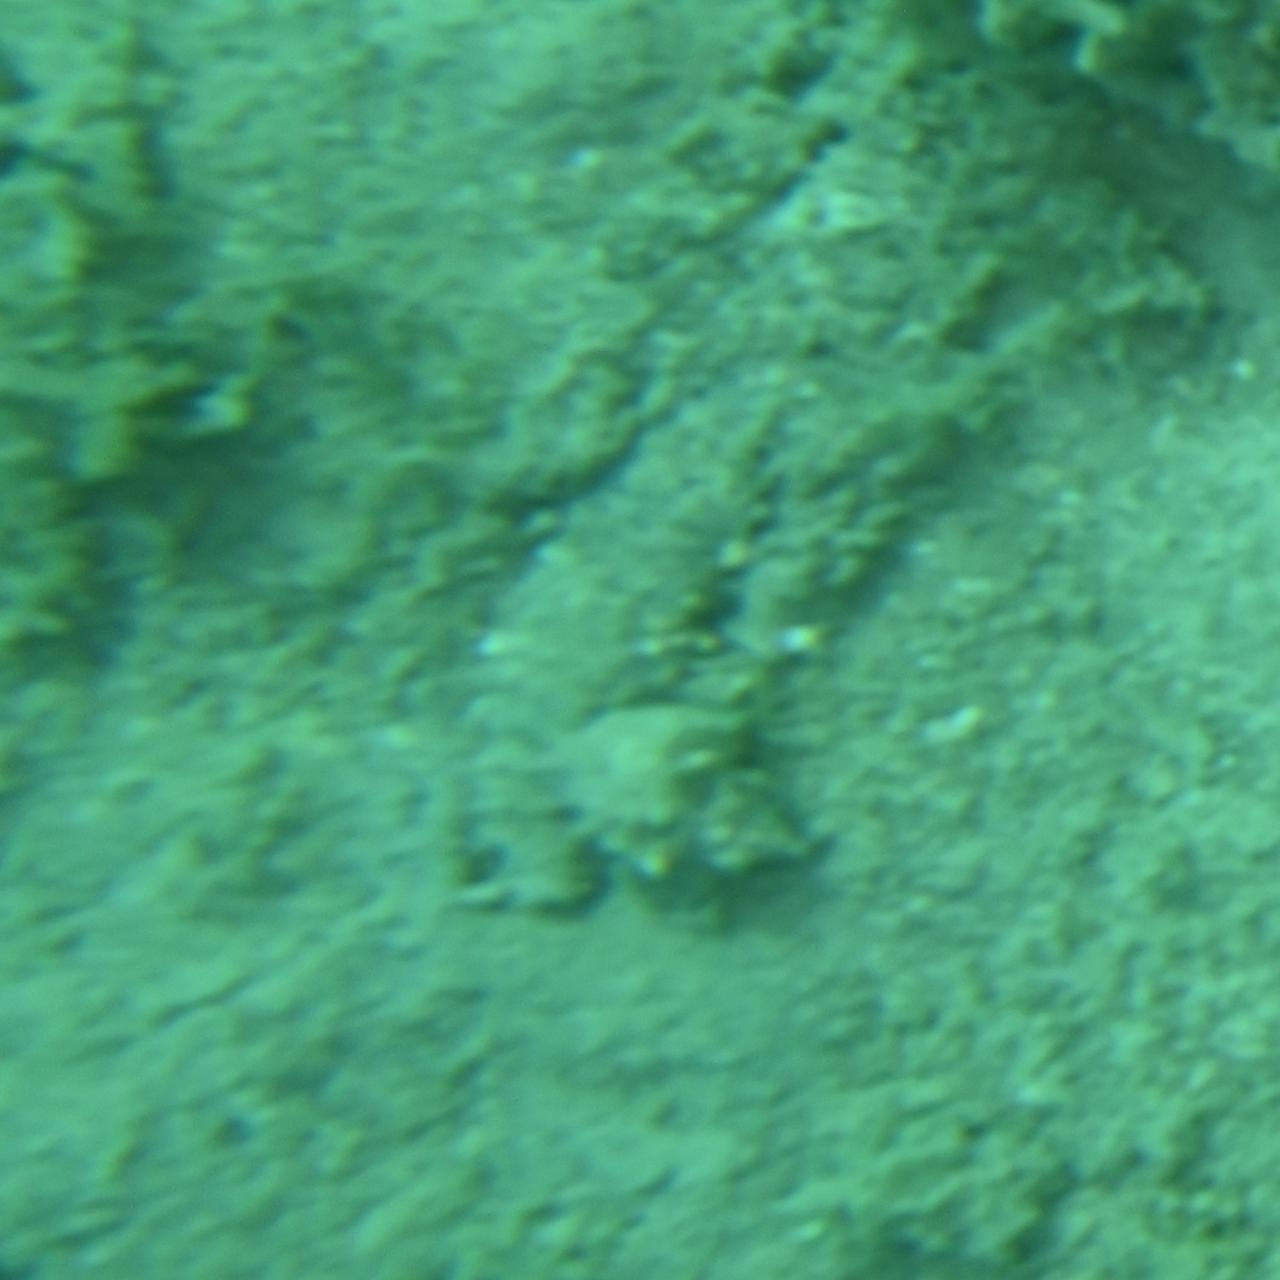Holothuria tubulosa: (470, 358, 810, 922)
